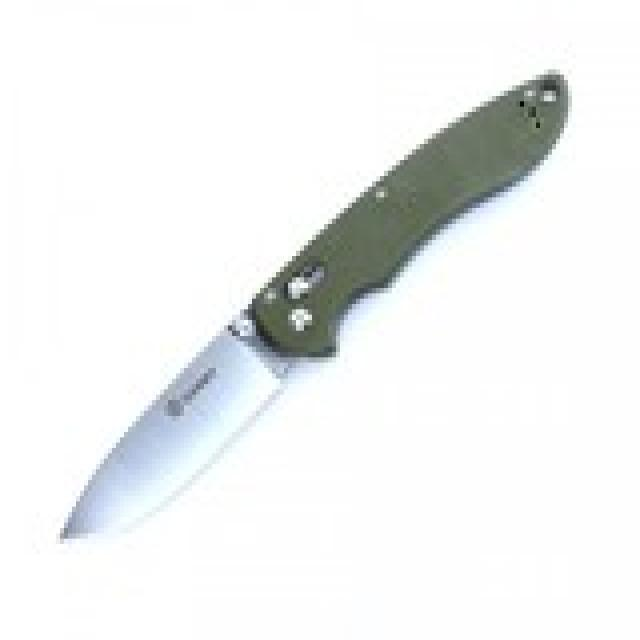Knife: (52, 69, 574, 550)
